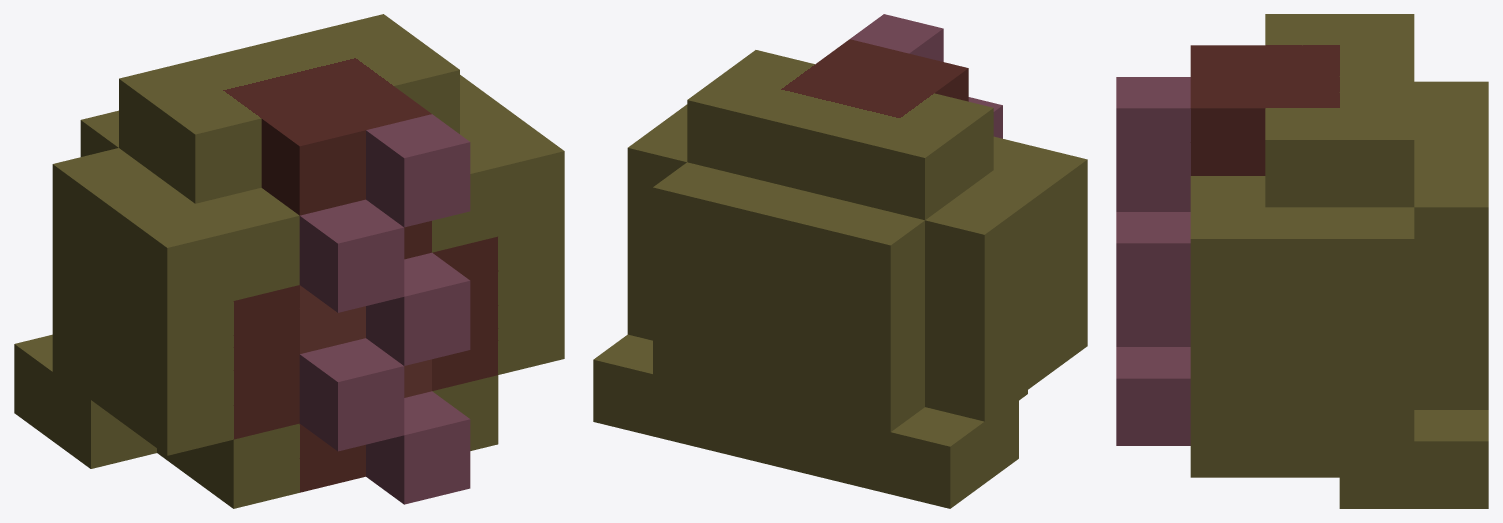
The model's file is NB_TR_F_spine1.fbx.
3 renders of one model, left to right at view 1: azimuth 30°, elevation 25°; view 2: azimuth 150°, elevation 25°; view 3: azimuth 270°, elevation 25°, orthographic. The views are drawn at different scales.
Visible parts, largest first — view 1: spine1; view 2: spine1; view 3: spine1.
Part boxes in pixels (box(x1,y1,x2,y2)): spine1: box(14, 14, 564, 508); spine1: box(593, 14, 1087, 508); spine1: box(1116, 14, 1488, 508).
Bounding box in the file's own units: 6 × 5 × 5.
1 material, 1 textured.
